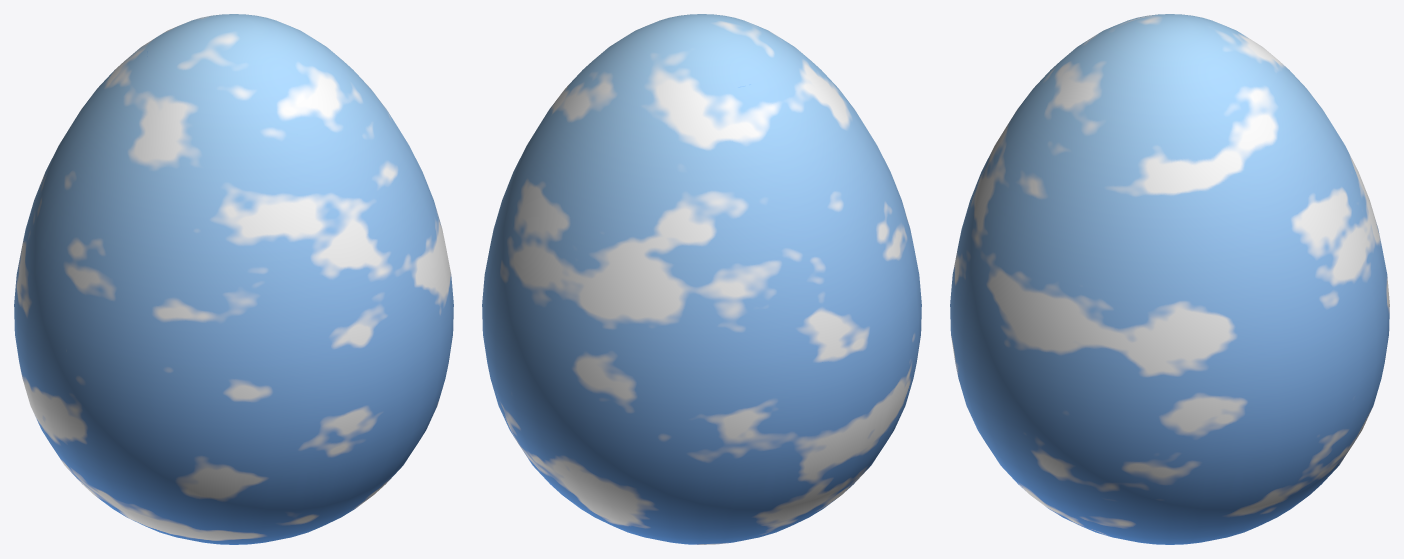
Rendered from Sky Egg.fbx.
The picture shows the model from 3 angles, left to right: view 1: azimuth 30°, elevation 25°; view 2: azimuth 150°, elevation 25°; view 3: azimuth 270°, elevation 25°; orthographic projection.
Parts seen in each view (by area): view 1: Sky Egg; view 2: Sky Egg; view 3: Sky Egg.
Part boxes in pixels (<box>): Sky Egg: <box>14,14,453,544</box>; Sky Egg: <box>482,14,921,544</box>; Sky Egg: <box>950,14,1389,544</box>.
Bounding box in the file's own units: 4 × 5 × 4.
1 material, 1 textured.
